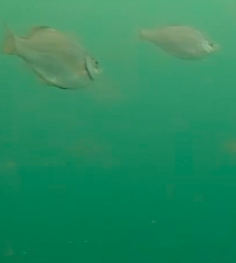smallfish: (2, 20, 104, 93), (130, 18, 224, 72)
